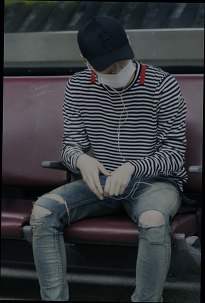mask_weared_incorrect: (91, 59, 138, 90)
